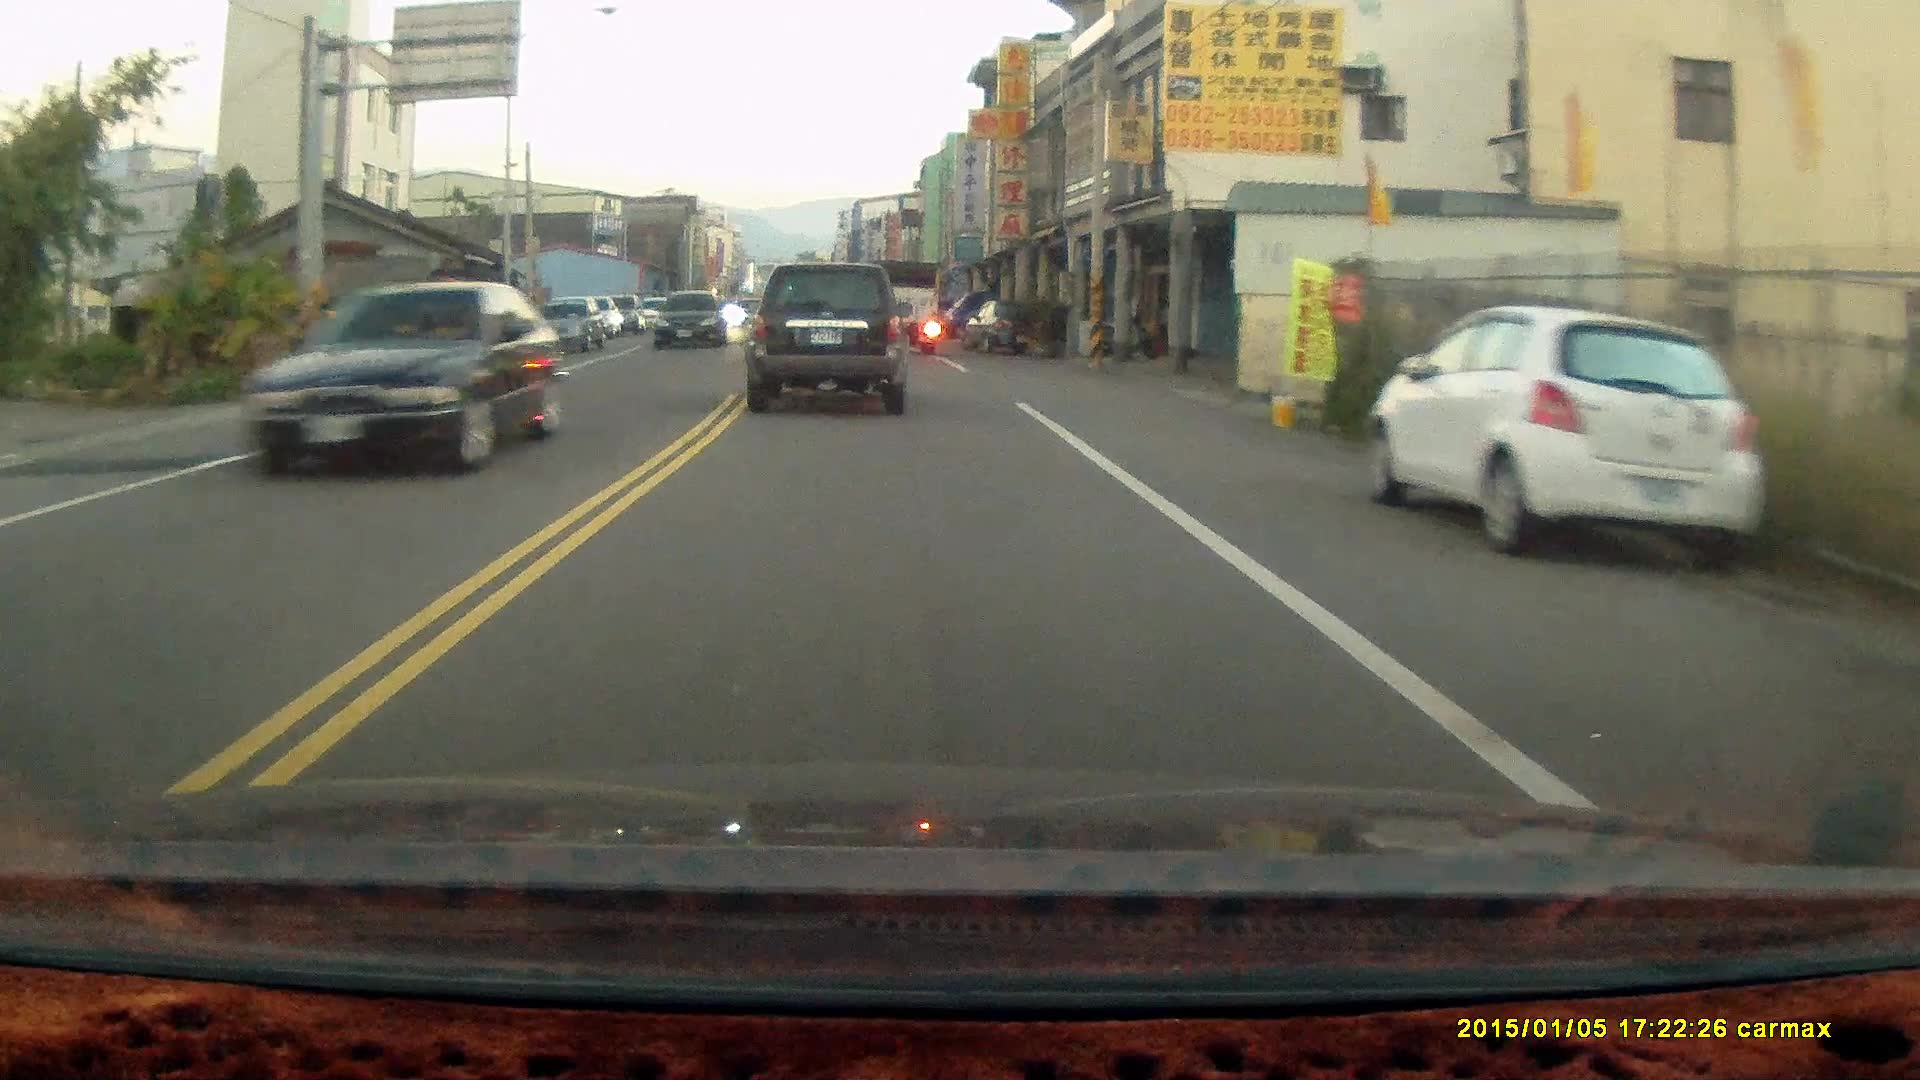vehicle: (1370, 305, 1760, 558), (241, 280, 567, 477), (744, 264, 918, 419), (865, 255, 945, 353), (651, 287, 731, 352), (522, 291, 604, 352)
